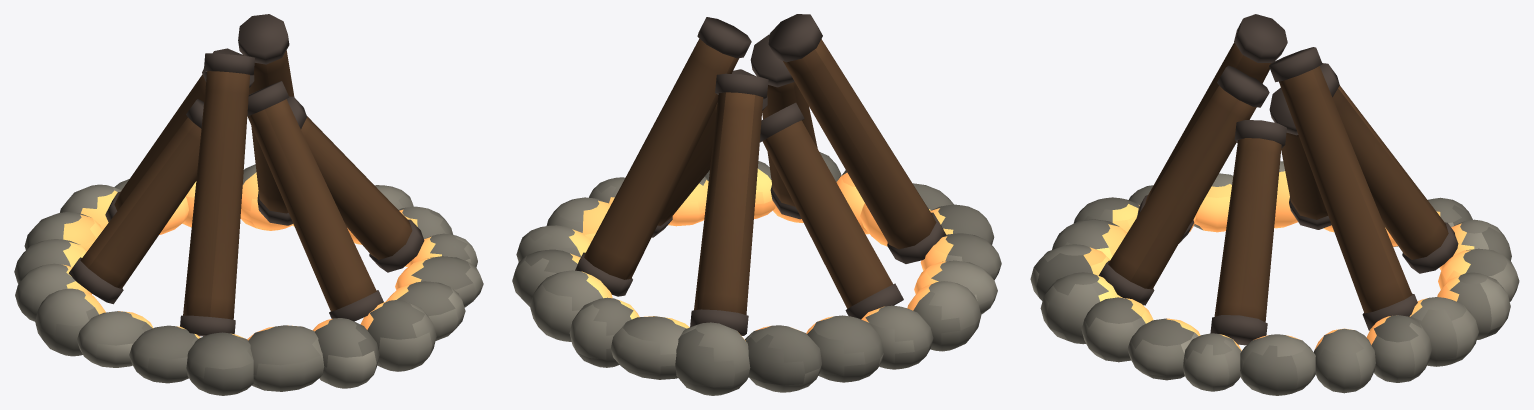
Rendered from gourd-prop-fire-big.glb.
3 views of the same model, side by side, from view 1: azimuth 30°, elevation 25°; view 2: azimuth 150°, elevation 25°; view 3: azimuth 270°, elevation 25° (orthographic). The views are drawn at different scales.
Visible parts, largest first — view 1: stones, logs, chars; view 2: logs, stones, chars; view 3: logs, stones, chars.
Boxes of the visible parts, bbox=[...] form: stones: bbox=[14, 164, 483, 395]; logs: bbox=[80, 50, 412, 319]; chars: bbox=[68, 14, 424, 336]; logs: bbox=[584, 38, 936, 314]; stones: bbox=[512, 152, 1001, 395]; chars: bbox=[575, 14, 946, 335]; logs: bbox=[1108, 42, 1448, 322]; stones: bbox=[1030, 161, 1519, 395]; chars: bbox=[1098, 14, 1458, 345].
Size of what is drawn, in the model's own units: 0.1389 by 0.0899 by 0.1425.
Materials: 4 (3 with a texture image).
